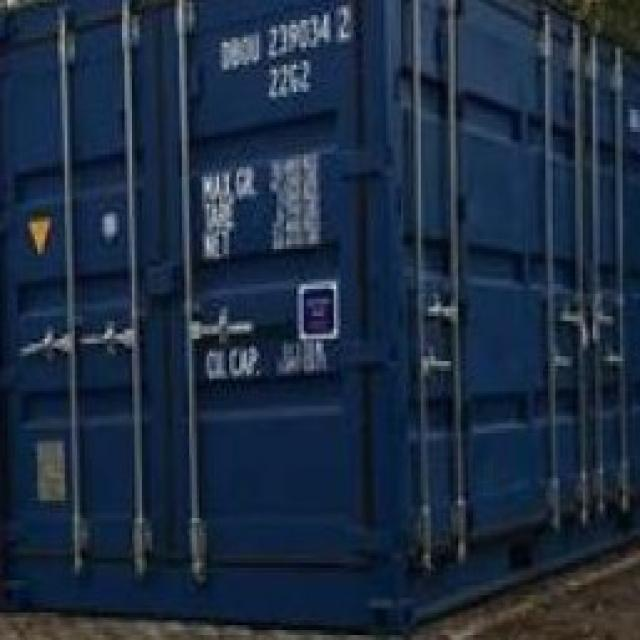ISO: (259, 63, 323, 99)
container_number: (214, 0, 363, 72)
